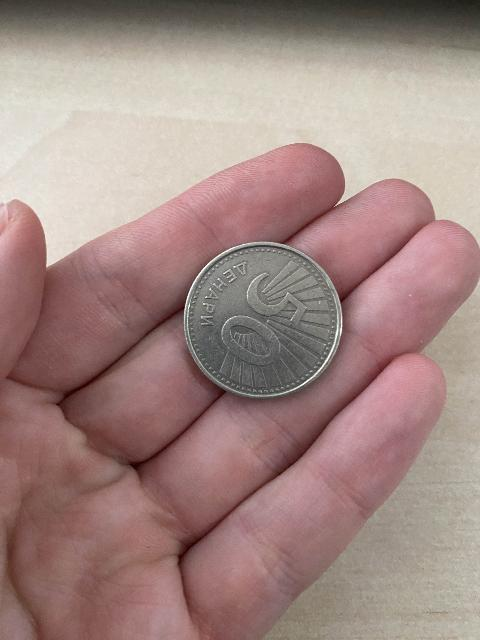coin: (180, 244, 340, 400)
